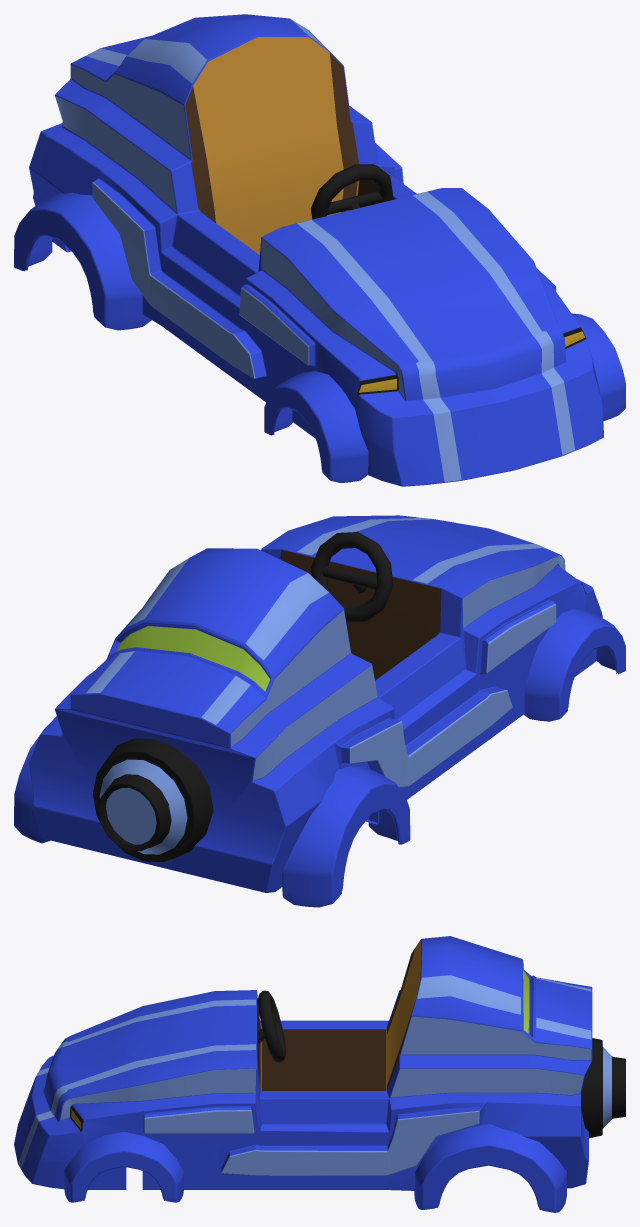
File: kart.fbx
The picture shows the model from 3 angles, top to bottom: view 1: azimuth 30°, elevation 25°; view 2: azimuth 150°, elevation 25°; view 3: azimuth 270°, elevation 25°; orthographic projection. The views are drawn at different scales.
Parts seen in each view (by area): view 1: Cube.001; view 2: Cube.001; view 3: Cube.001.
Part boxes in pixels (x1,y1,x2,y2): Cube.001: (14,14,625,486); Cube.001: (14,515,625,907); Cube.001: (14,936,625,1212).
Bounding box in the file's own units: 1025 × 797 × 2139.
